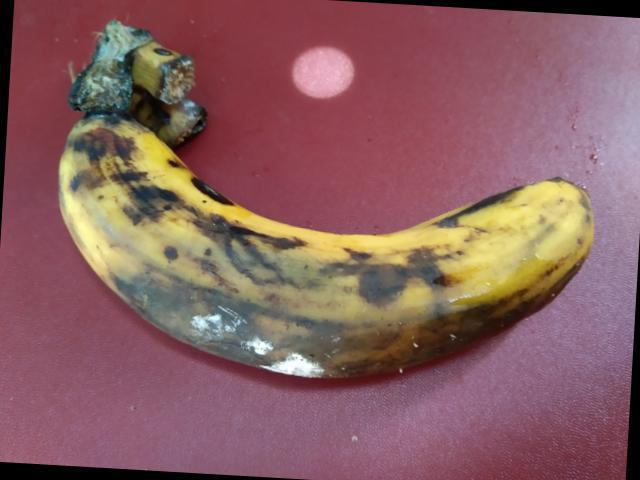rotten: (43, 119, 598, 421)
